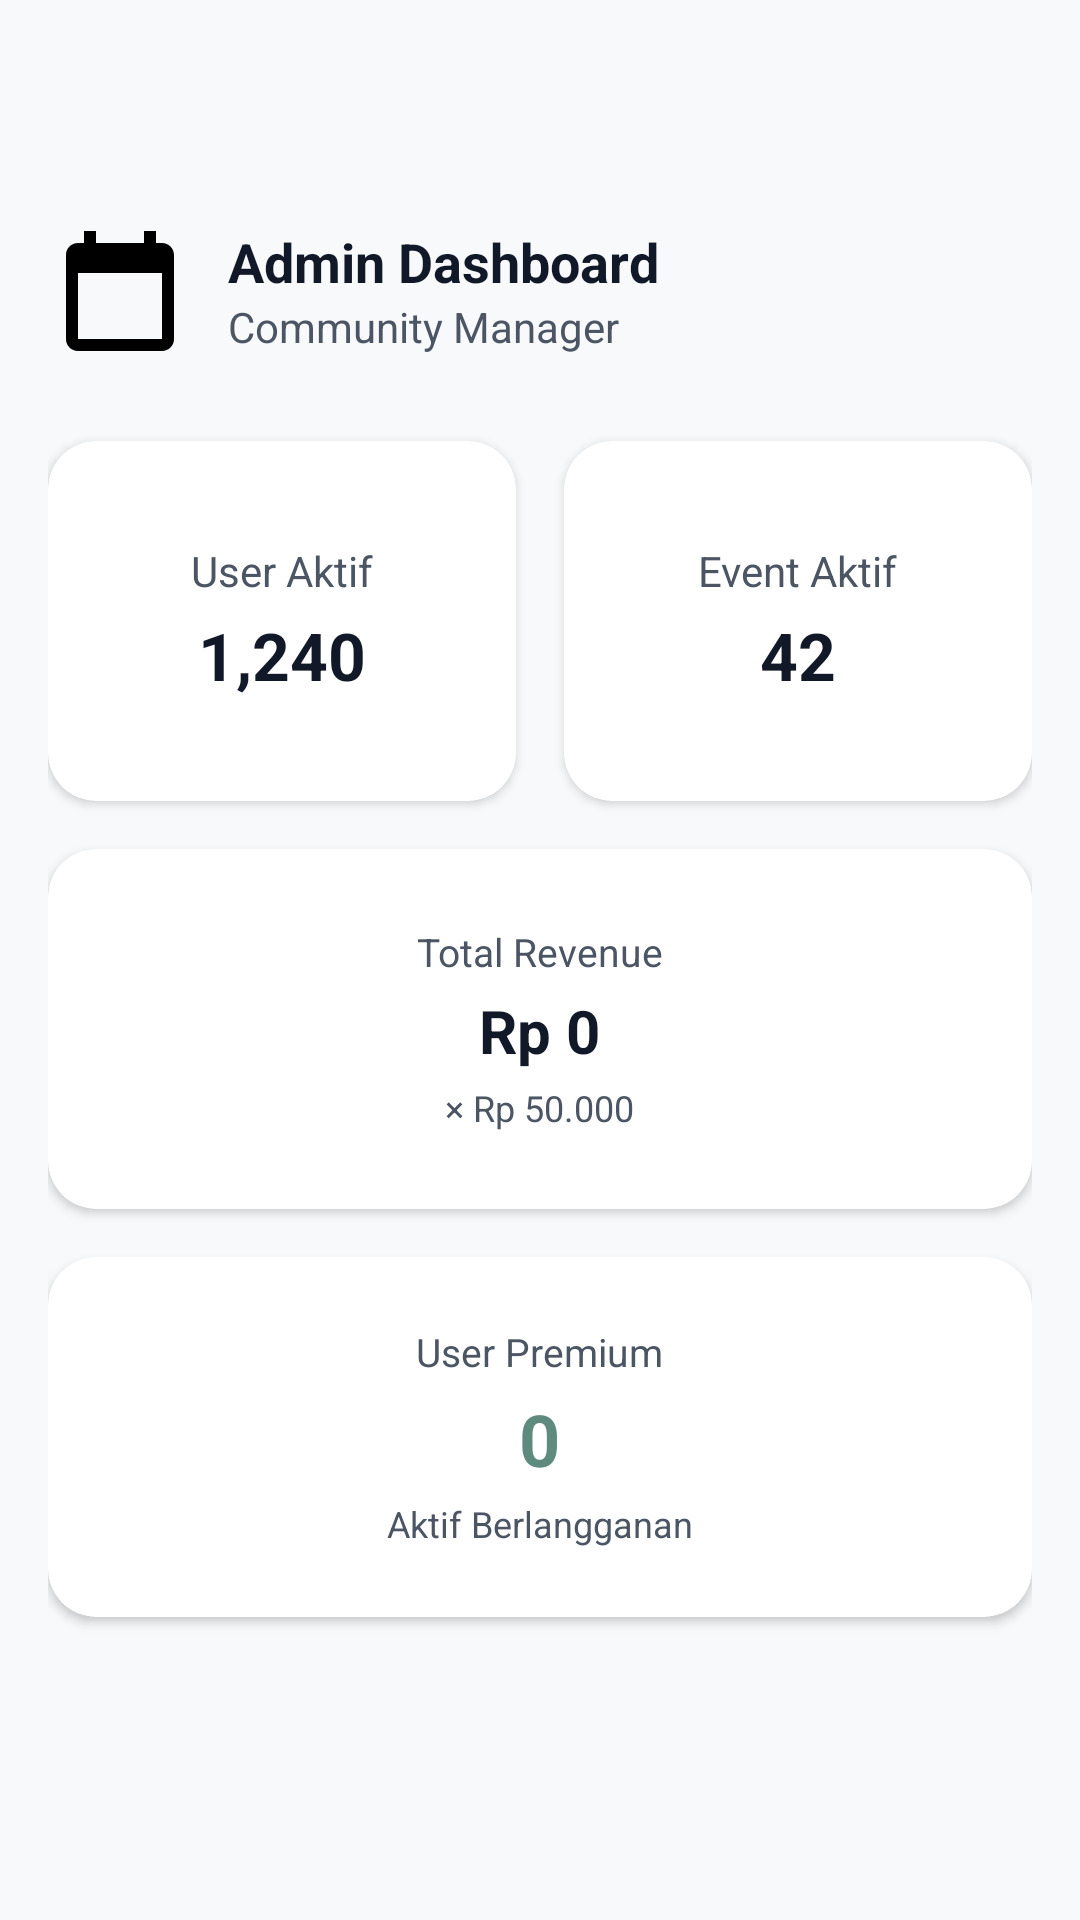

Screen size 1080px×1920px. Icon name, then its center in pixels as [x,y]:
calendar: [120,291]
